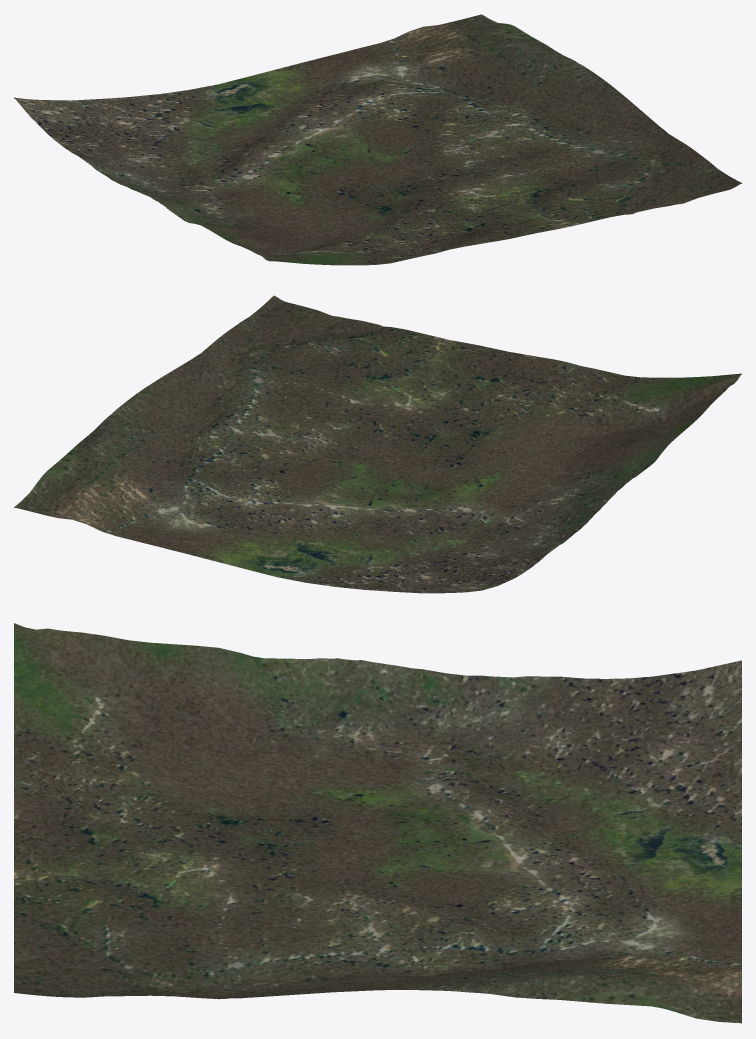
The picture shows the model from 3 angles, top to bottom: view 1: azimuth 30°, elevation 25°; view 2: azimuth 150°, elevation 25°; view 3: azimuth 270°, elevation 25°; orthographic projection. The views are drawn at different scales.
Bounding box in the file's own units: 1000 × 132 × 963.
1 material, 1 textured.
